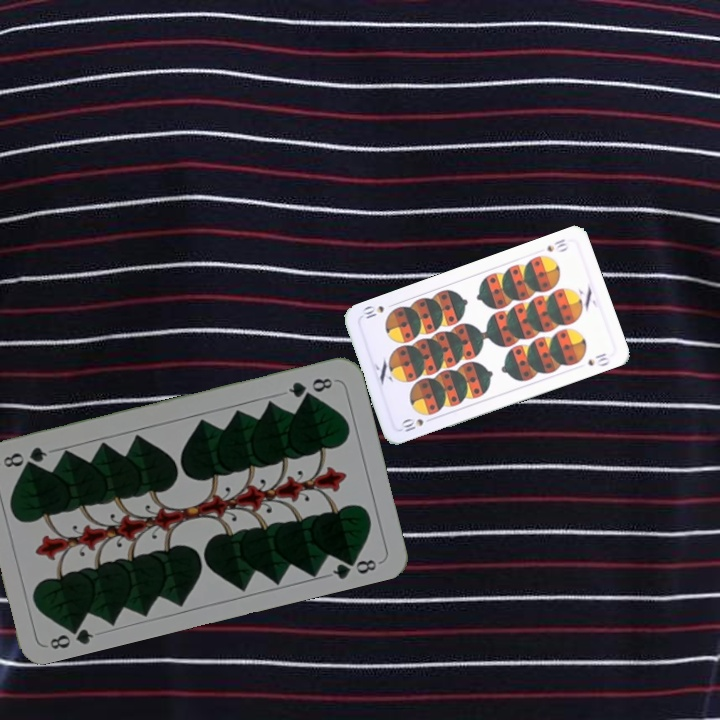G8: (45, 619, 96, 652), (284, 374, 335, 401)
S10: (397, 413, 436, 434), (543, 235, 571, 254)
